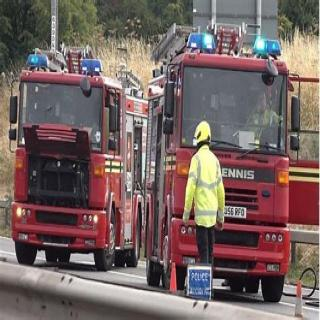Fire_truck: (141, 20, 319, 302), (8, 44, 148, 271)
